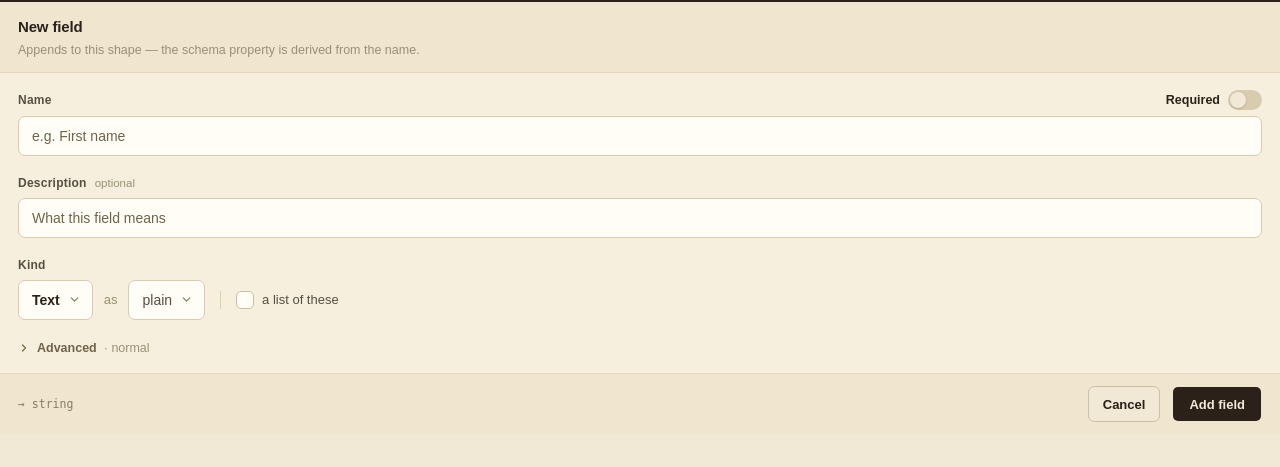
Test case: blocks a name that derives to nothing
Type "!!!" into the field labelled "Name" at [640, 136], box [18,116,1262,156]
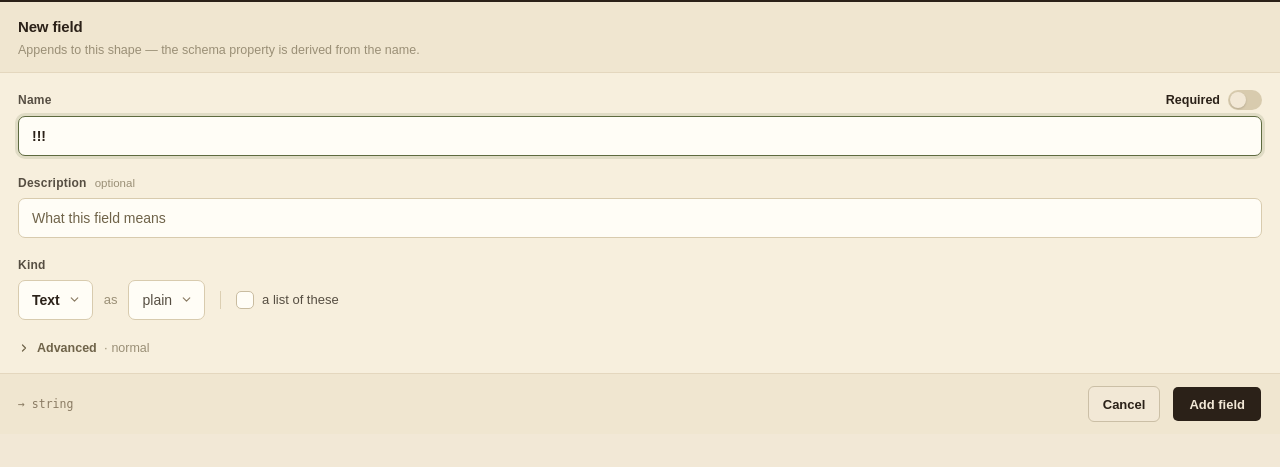
Click the button "Add field" at [1217, 404], box [1172,386,1262,422]
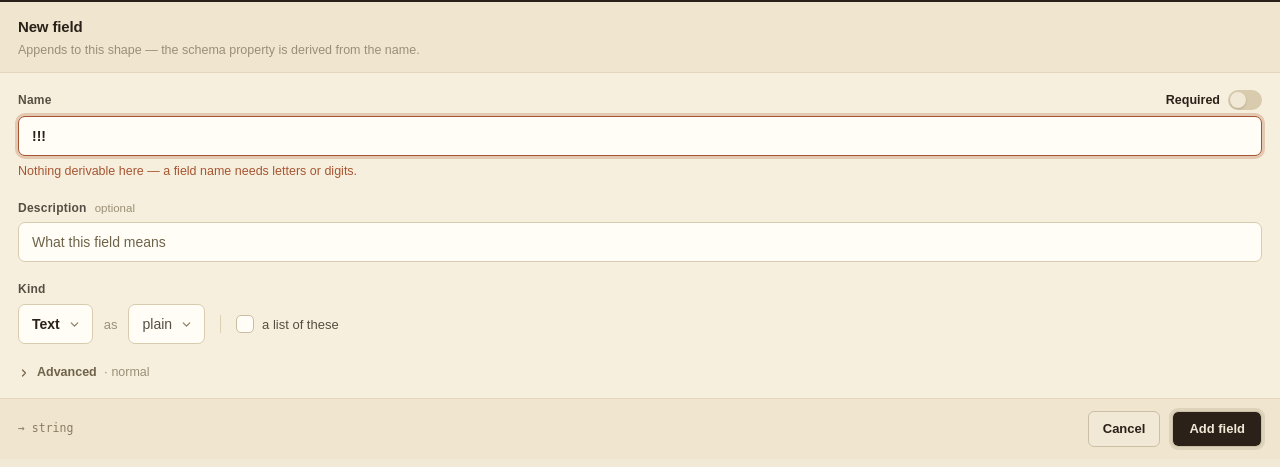
Now the message shows "letters or digits", box [18,164,357,178]
